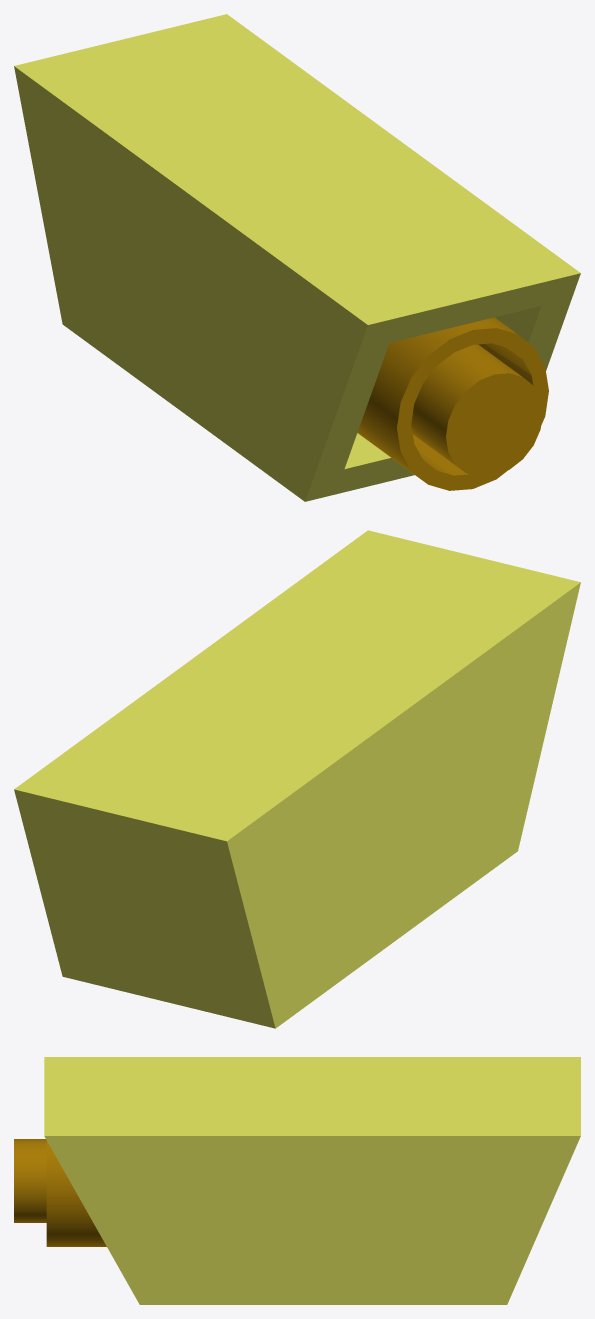
The model's file is camera_head_reseated.fbx.
The picture shows the model from 3 angles, top to bottom: view 1: azimuth 30°, elevation 25°; view 2: azimuth 150°, elevation 25°; view 3: azimuth 270°, elevation 25°; orthographic projection. The views are drawn at different scales.
Visible parts, largest first — view 1: pCube1, pCylinder3, pCylinder4; view 2: pCube1; view 3: pCube1, pCylinder4, pCylinder3.
Boxes of the visible parts, x1,y1,x2,y2 form: pCube1: (14,14,580,501); pCylinder3: (411,344,542,476); pCylinder4: (357,317,548,490); pCube1: (14,530,580,1028); pCube1: (44,1057,580,1304); pCylinder4: (46,1141,106,1246); pCylinder3: (14,1139,46,1222).
Bounding box in the file's own units: 1 × 1 × 3.04.
